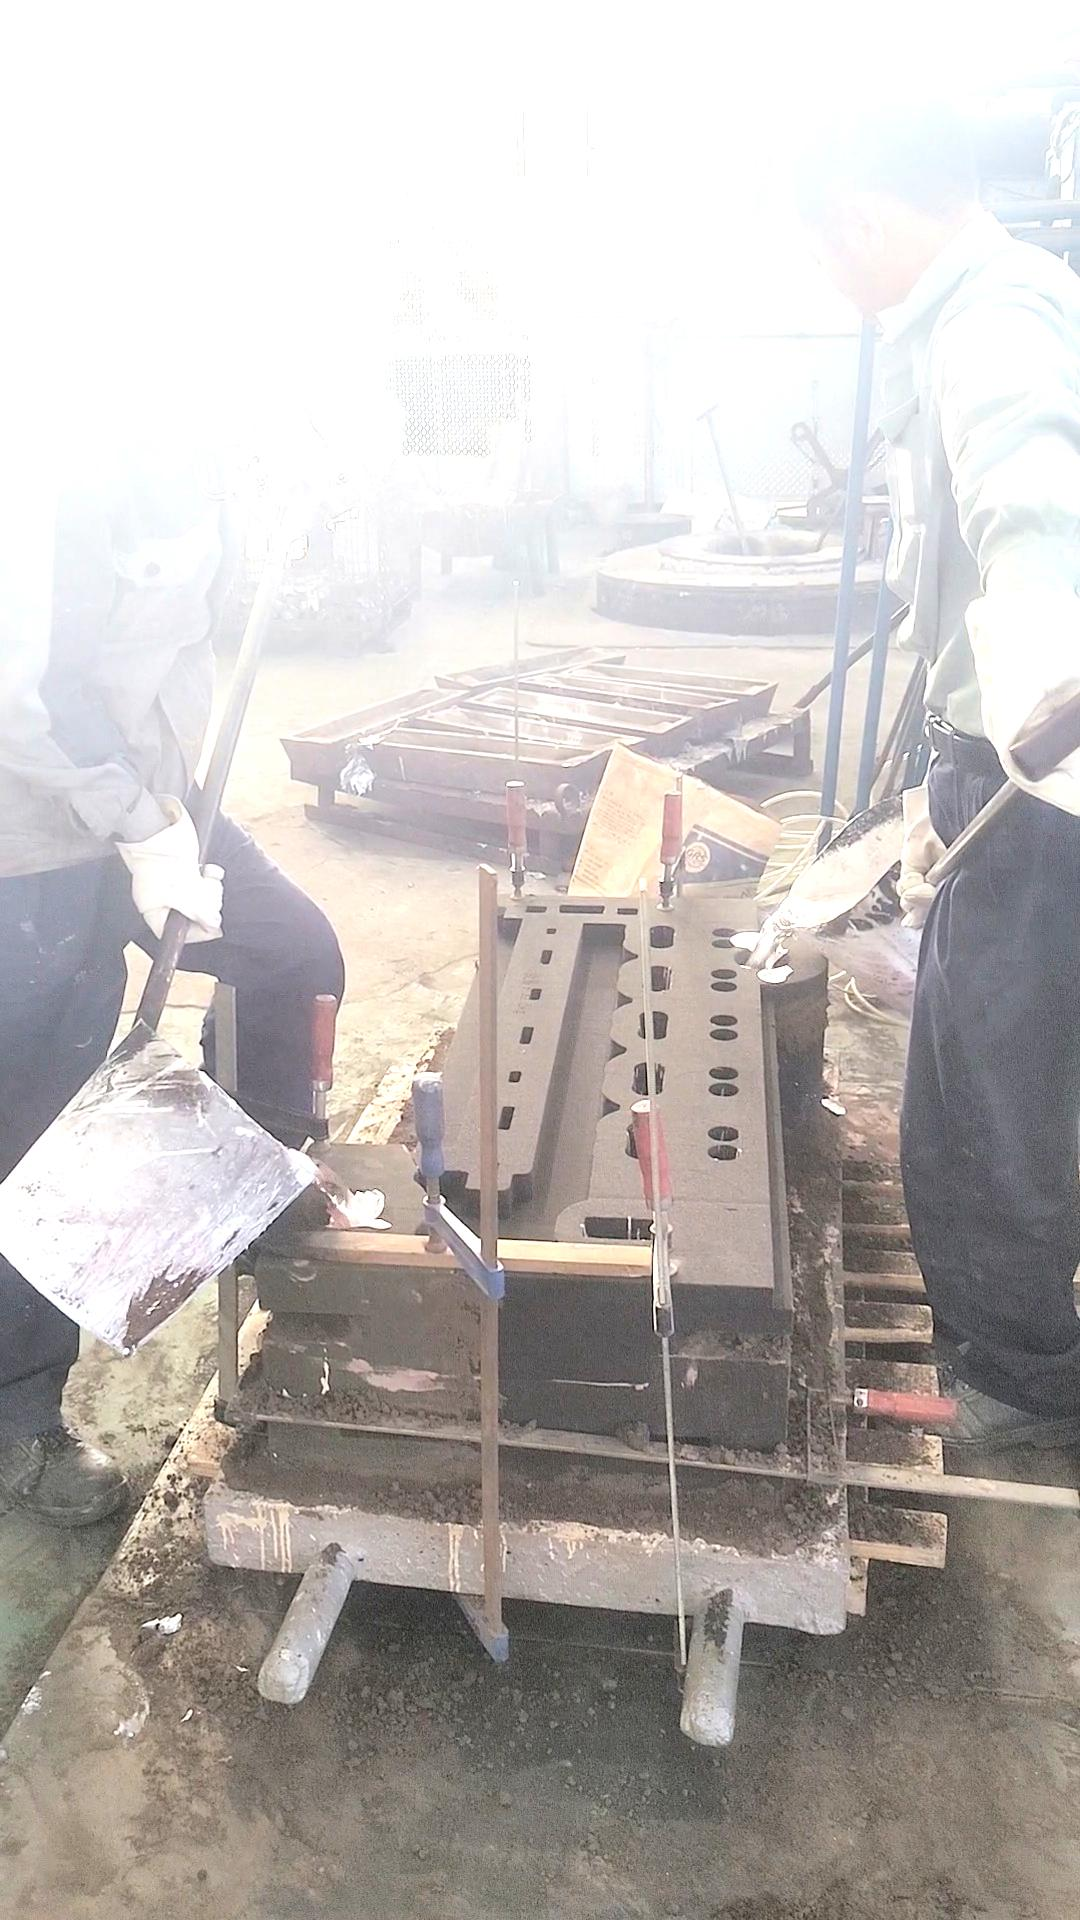pouring hole: (302, 1188, 382, 1229), (735, 949, 790, 971)
